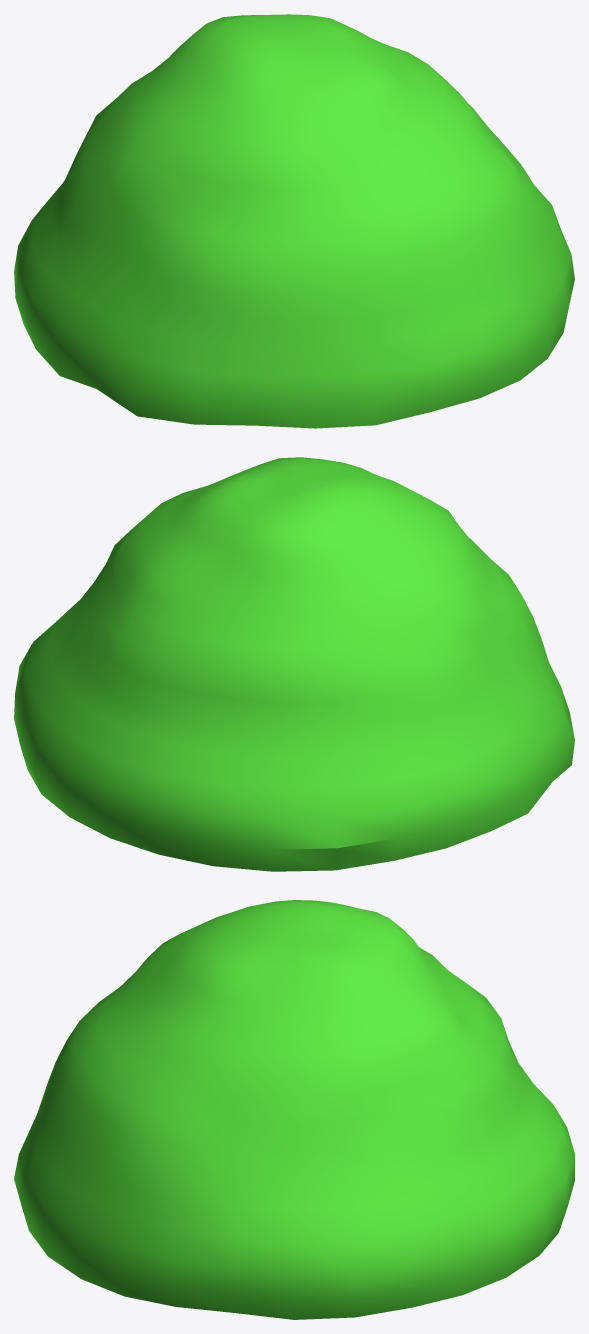
File: ShitSlimeTemp.fbx
The picture shows the model from 3 angles, top to bottom: view 1: azimuth 30°, elevation 25°; view 2: azimuth 150°, elevation 25°; view 3: azimuth 270°, elevation 25°; orthographic projection.
Visible parts, largest first — view 1: Sphere; view 2: Sphere; view 3: Sphere.
Boxes of the visible parts, x1=… form: Sphere: x1=14, y1=14, x2=574, y2=428; Sphere: x1=14, y1=457, x2=574, y2=871; Sphere: x1=14, y1=900, x2=574, y2=1319.
Bounding box in the file's own units: 203 × 114 × 204.
